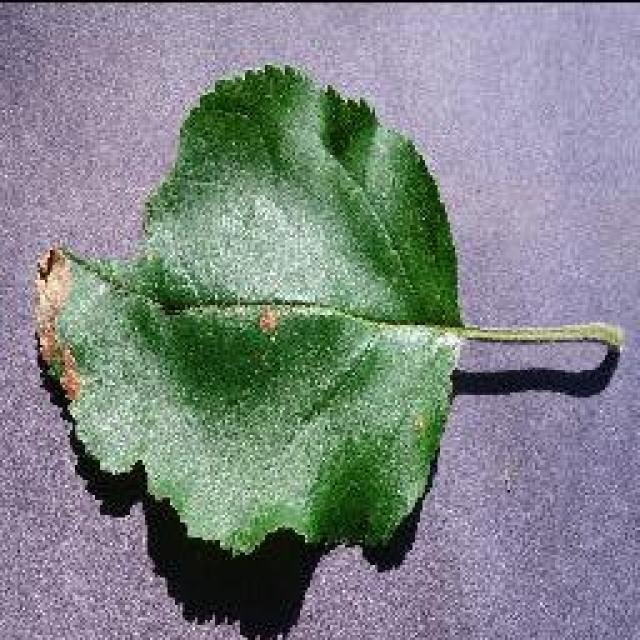Black_rot: (30, 60, 622, 638)
